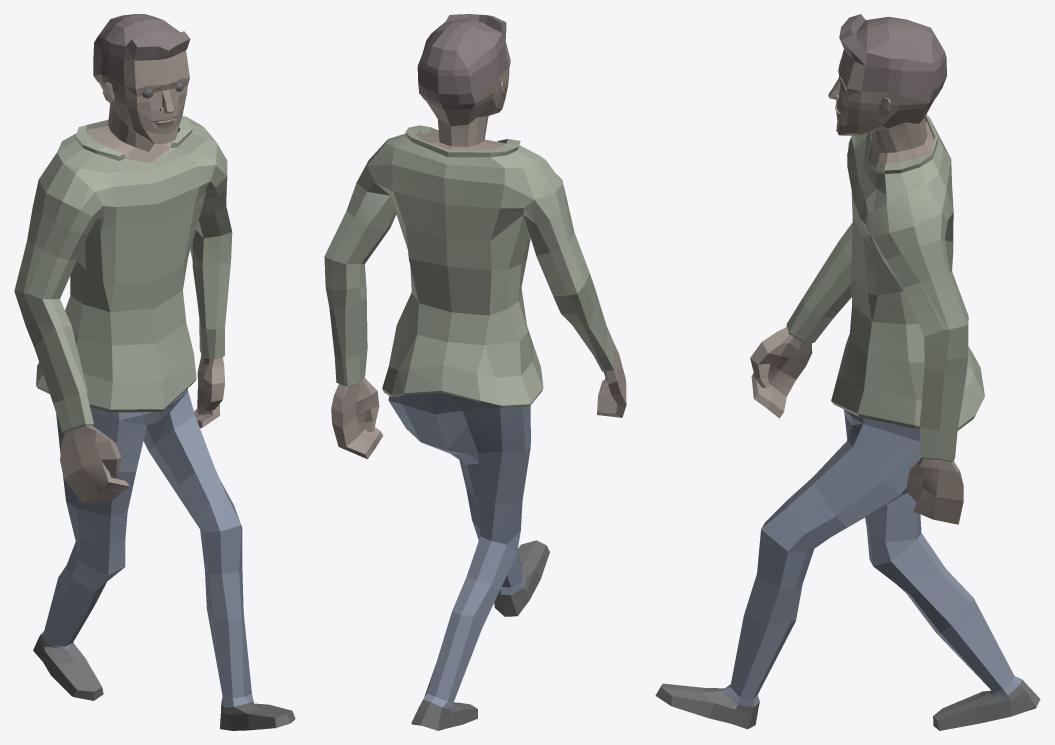
File: walk_2.glb
The picture shows the model from 3 angles, left to right: view 1: azimuth 30°, elevation 25°; view 2: azimuth 150°, elevation 25°; view 3: azimuth 270°, elevation 25°; orthographic projection. The views are drawn at different scales.
Parts seen in each view (by area): view 1: BaseHuman_baked; view 2: BaseHuman_baked; view 3: BaseHuman_baked.
Boxes of the visible parts, box(x1,y1,x2,y2) form: BaseHuman_baked: box(14, 14, 295, 730); BaseHuman_baked: box(324, 14, 626, 730); BaseHuman_baked: box(655, 14, 1040, 730).
Bounding box in the file's own units: 1.64 × 4.64 × 2.26.
